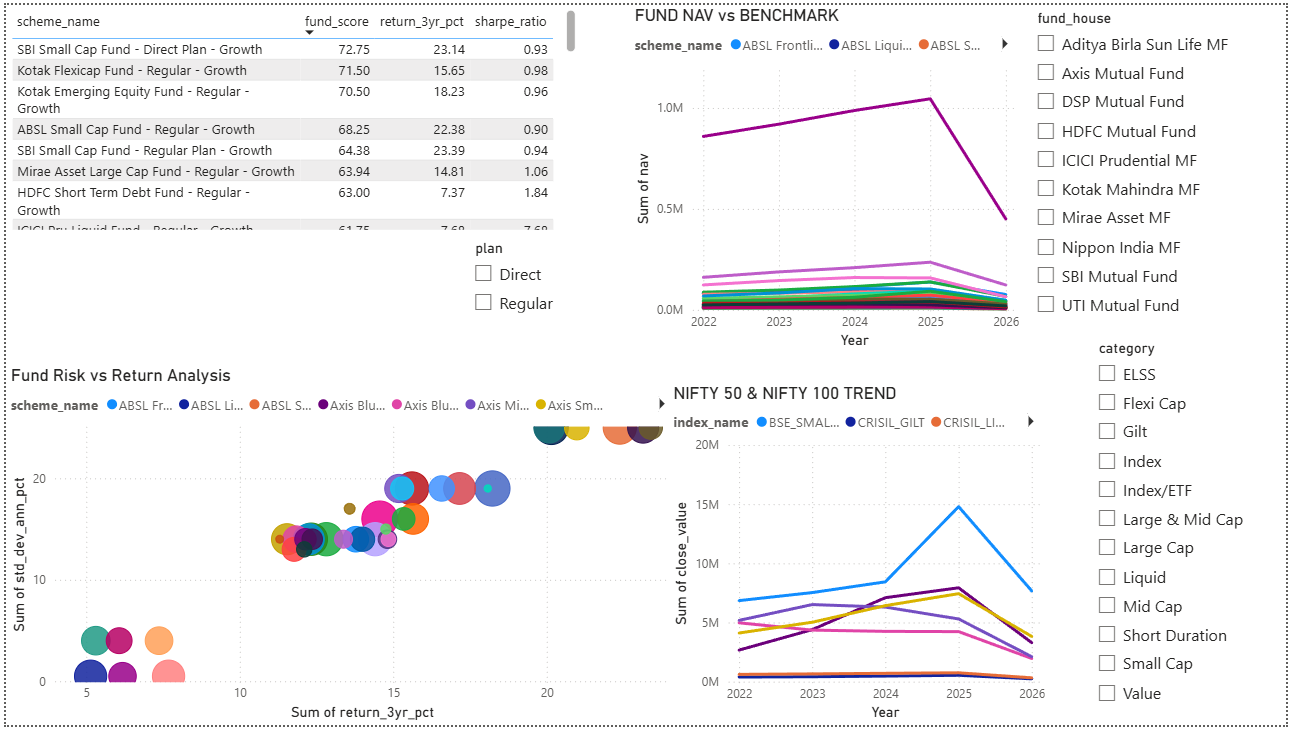

What the dashboard file says about the page in this screenshot:
{"tool":"powerbi","page":{"name":"Fund Performance","canvas":[1280,720],"ordinal":1},"visuals":[{"type":"scatterChart","title":"Fund Risk vs Return Analysis","fields":{"X":["Sum(07_scheme_performance.return_3yr_pct)"],"Y":["Sum(07_scheme_performance.std_dev_ann_pct)"],"Size":["Sum(07_scheme_performance.aum_crore)"],"Series":["01_fund_master.scheme_name"]},"box":[0,360,675.7,360],"z":0},{"type":"tableEx","fields":{"Values":["fund_scorecard.scheme_name","fund_scorecard.fund_score","fund_scorecard.return_3yr_pct","fund_scorecard.sharpe_ratio"]},"box":[0,0,574.3,230],"z":1000},{"type":"slicer","fields":{"Values":["01_fund_master.plan"]},"box":[455.7,230,118.6,100],"z":2000},{"type":"slicer","fields":{"Values":["07_scheme_performance.category"]},"box":[1080,330,200,390],"z":3000},{"type":"slicer","fields":{"Values":["01_fund_master.fund_house"]},"box":[1018.6,0,261.4,330],"z":4000},{"type":"lineChart","title":"FUND NAV vs BENCHMARK","fields":{"Category":["02_nav_history.date.Variation.Date Hierarchy.Year","02_nav_history.date.Variation.Date Hierarchy.Quarter","02_nav_history.date.Variation.Date Hierarchy.Month","02_nav_history.date.Variation.Date Hierarchy.Day"],"Y":["Sum(02_nav_history.nav)"],"Series":["01_fund_master.scheme_name"]},"box":[624.3,0,394.3,348.6],"z":5000},{"type":"lineChart","title":"NIFTY 50 & NIFTY 100 TREND","fields":{"Category":["10_benchmark_indices.date.Variation.Date Hierarchy.Year","10_benchmark_indices.date.Variation.Date Hierarchy.Quarter","10_benchmark_indices.date.Variation.Date Hierarchy.Month","10_benchmark_indices.date.Variation.Date Hierarchy.Day"],"Y":["Sum(10_benchmark_indices.close_value)"],"Series":["10_benchmark_indices.index_name"]},"box":[662.9,377.1,381.4,342.9],"z":6000}]}

Visuals, with their boxes in screenshot pixels (x1, y1, x2, y2), scaled from the page's 1280x720 canvas onto the 1295x732 screenshot:
"Fund Risk vs Return Analysis" scatterChart: [x1=0, y1=366, x2=684, y2=731]
tableEx - fund_scorecard.scheme_name x fund_scorecard.fund_score: [x1=0, y1=0, x2=581, y2=234]
slicer - 01_fund_master.plan: [x1=461, y1=234, x2=581, y2=336]
slicer - 07_scheme_performance.category: [x1=1093, y1=336, x2=1294, y2=731]
slicer - 01_fund_master.fund_house: [x1=1031, y1=0, x2=1294, y2=336]
"FUND NAV vs BENCHMARK" lineChart: [x1=632, y1=0, x2=1031, y2=354]
"NIFTY 50 & NIFTY 100 TREND" lineChart: [x1=671, y1=383, x2=1057, y2=731]
